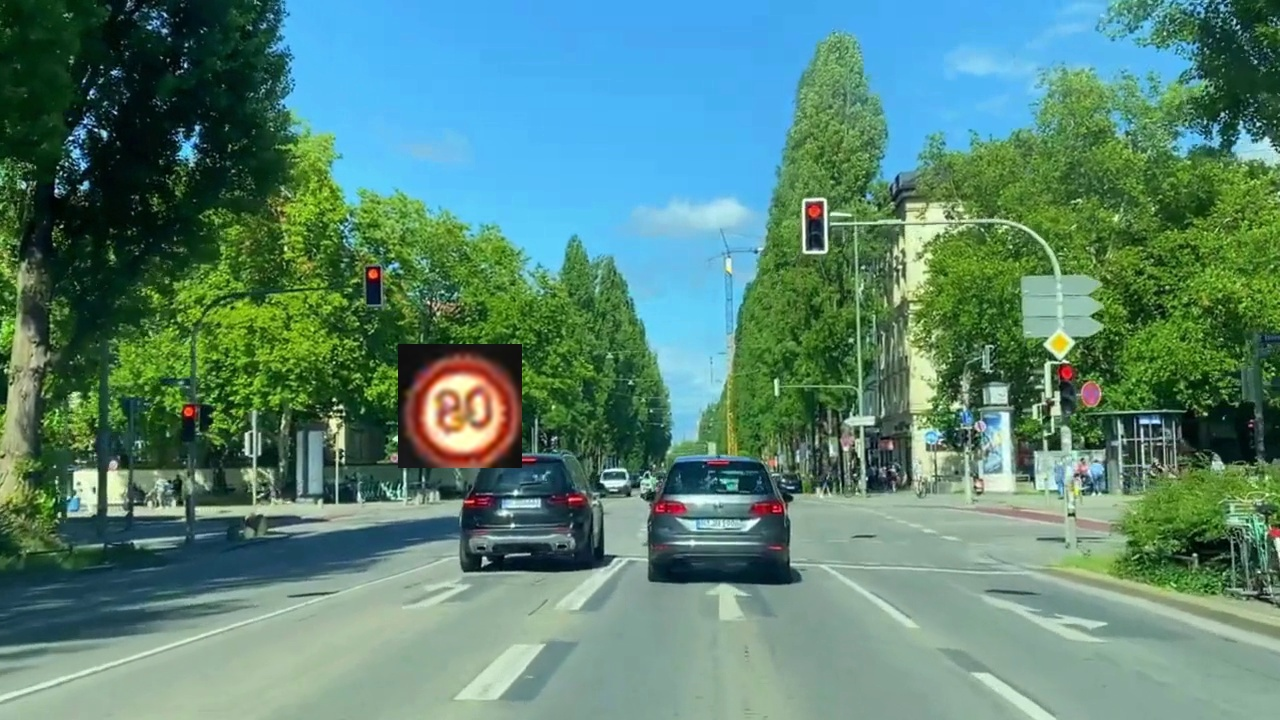Speed 80: (398, 344, 522, 468)
